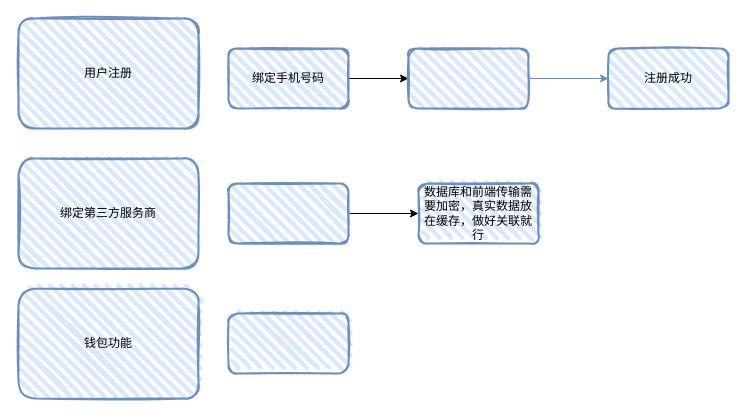
The diagram is 746 pixels wide and 416 high, and some of its shapes have lost their labels. The shapes that lost their labels are listed below. From the top down, each one's centre as x and y in pixels, then its label:
At point 468,78: "绑定密码".
At point 288,213: "用户输入key和secret".
At point 288,343: "帮助用户充值到第三方服务商中，用于监控中心使用".
